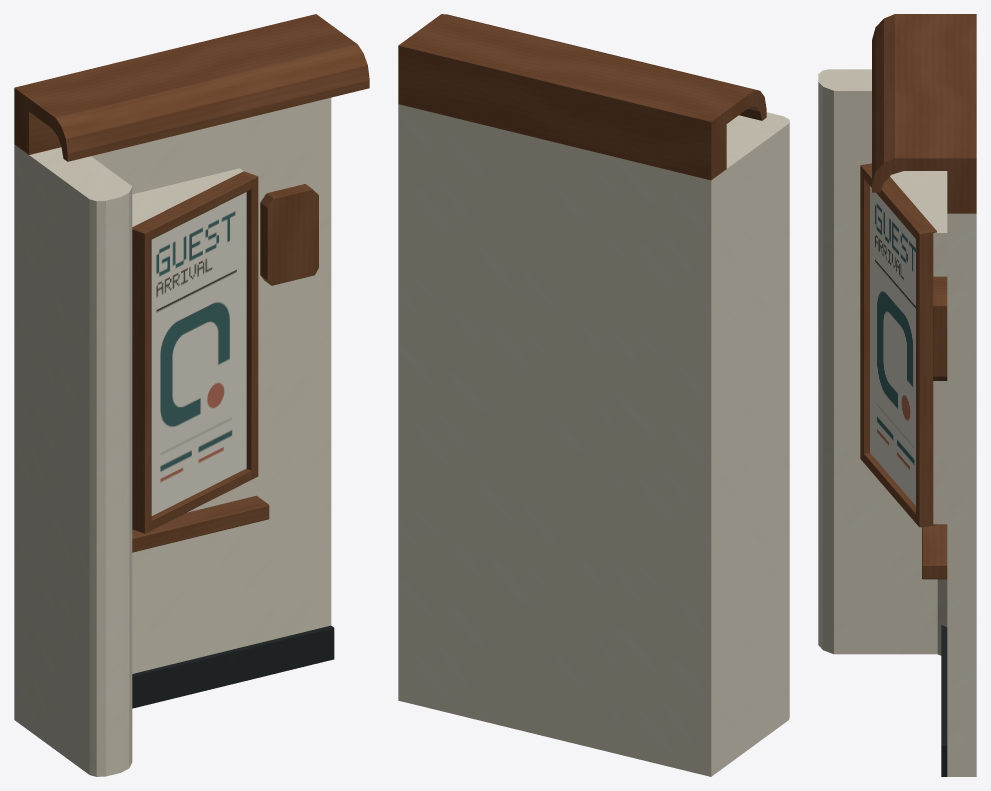
The model's file is AST-LND-001.glb.
3 renders of one model, left to right at view 1: azimuth 30°, elevation 25°; view 2: azimuth 150°, elevation 25°; view 3: azimuth 270°, elevation 25°, orthographic. The views are drawn at different scales.
Parts seen in each view (by area): view 1: AST-LND-001__ivory_enamel, AST-LND-001__warm_walnut, AST-LND-001__guest_arrival_original, AST-LND-001__dark_rubber; view 2: AST-LND-001__ivory_enamel, AST-LND-001__warm_walnut; view 3: AST-LND-001__ivory_enamel, AST-LND-001__warm_walnut, AST-LND-001__guest_arrival_original, AST-LND-001__dark_rubber.
Boxes of the visible parts, box(x1,y1,x2,y2) form: AST-LND-001__ivory_enamel: box(14, 97, 331, 776); AST-LND-001__warm_walnut: box(14, 14, 369, 552); AST-LND-001__guest_arrival_original: box(151, 192, 246, 515); AST-LND-001__dark_rubber: box(132, 625, 334, 708); AST-LND-001__ivory_enamel: box(398, 104, 789, 776); AST-LND-001__warm_walnut: box(398, 14, 766, 180); AST-LND-001__ivory_enamel: box(818, 69, 976, 776); AST-LND-001__warm_walnut: box(860, 14, 976, 579); AST-LND-001__guest_arrival_original: box(870, 186, 915, 505); AST-LND-001__dark_rubber: box(941, 625, 947, 776).
Size of the model in its own units: 1.4 by 2.8 by 0.65.
Materials: 5 (5 with a texture image).
